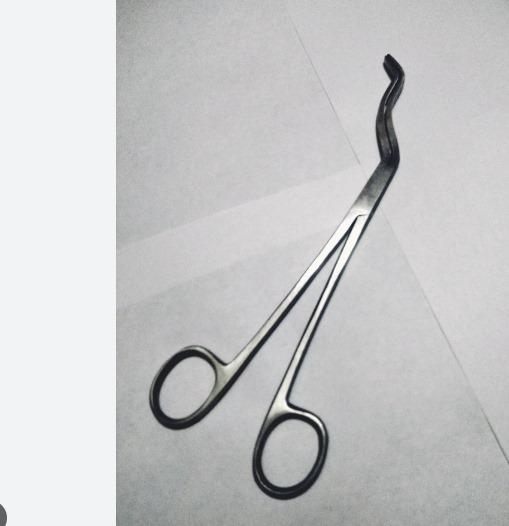Cheatle Forceps: (142, 47, 417, 499)
